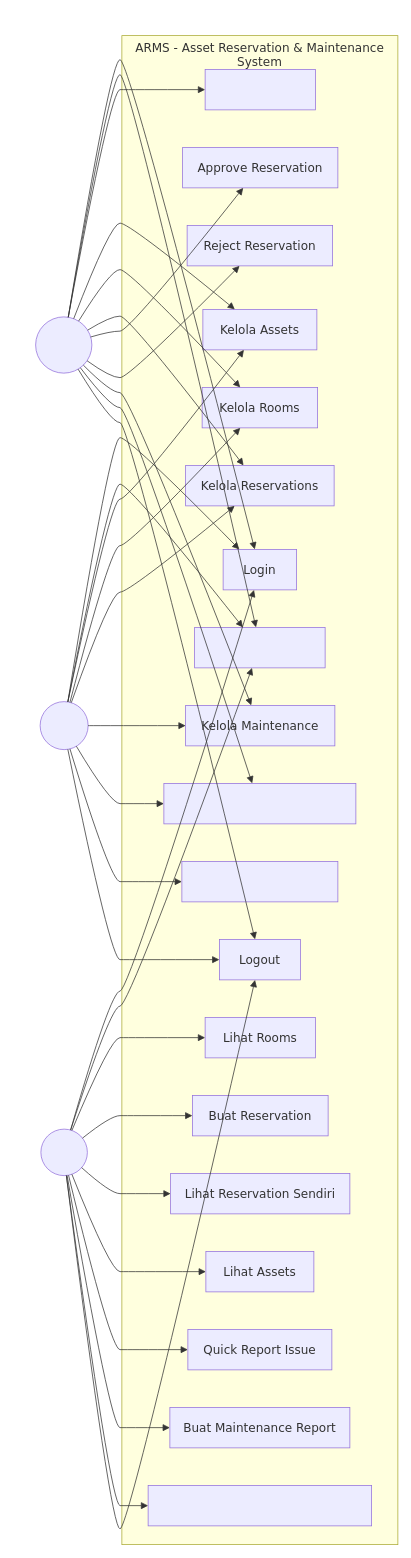
This 411x1558 diagram has some shape labels left out. Each missing label, with the centre of its shape:
"Admin" goes at pixel 63 344.
"Kelola Users" goes at pixel 259 89.
"Lihat Maintenance Report Sendiri" goes at pixel 259 1505.
"Staff" goes at pixel 63 725.
"Update Kondisi Asset" goes at pixel 259 881.
"Update Maintenance Status" goes at pixel 259 803.
"User" goes at pixel 63 1152.
"View Dashboard" goes at pixel 259 647.
